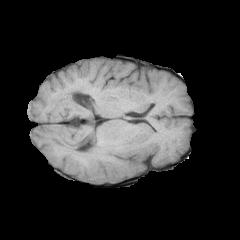glioma: (78, 143, 151, 183)
